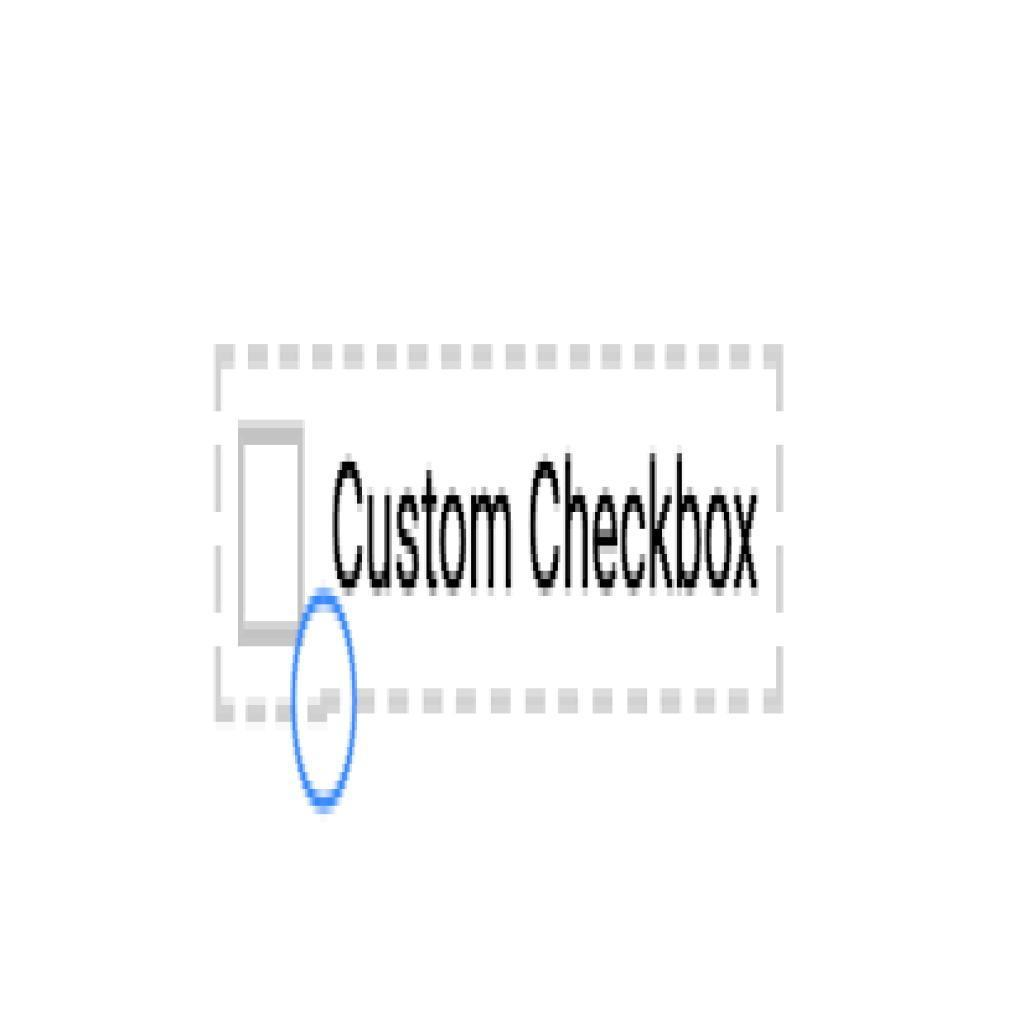checkbox: (239, 425, 299, 636)
